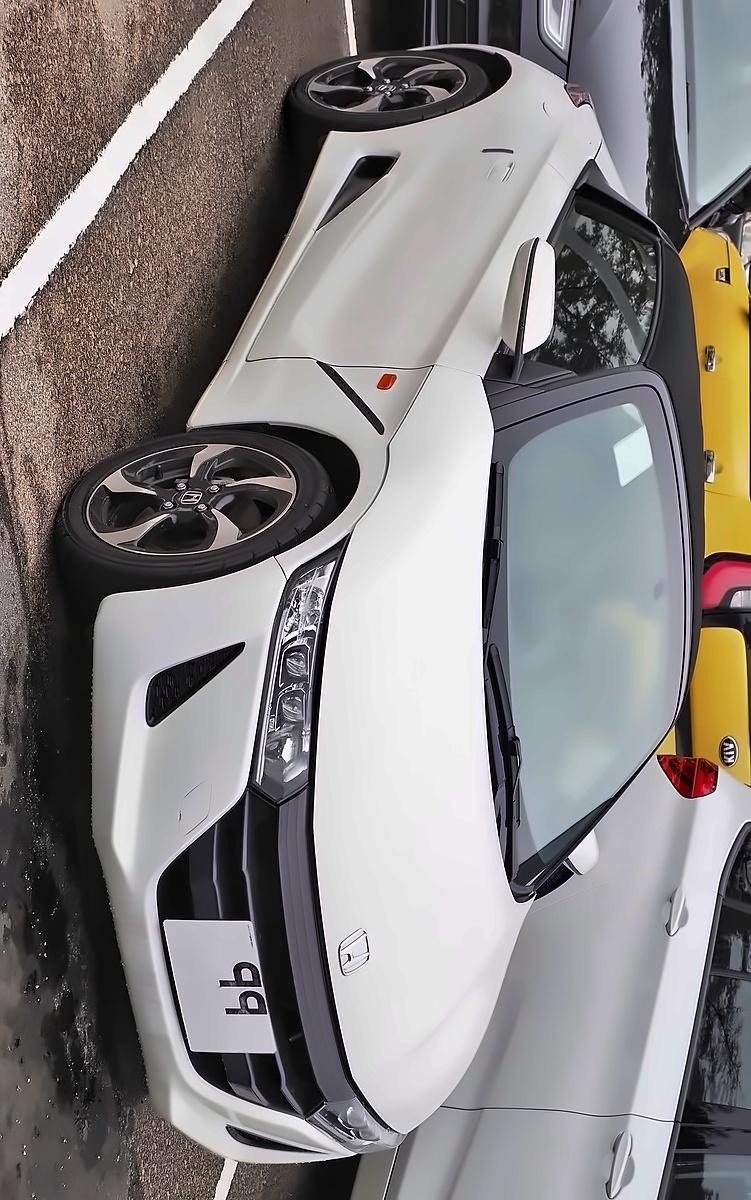Car hood: (305, 370, 533, 1139)
Driver-s door - -F-R-: (238, 138, 672, 362)
Fender - -F-R-: (183, 360, 504, 578)
Fender - -R-R-: (335, 64, 592, 138)
Front bumper: (60, 575, 333, 1183)
Headlight - -L-: (285, 1068, 417, 1171)
Headlight - -R-: (245, 523, 356, 812)
Rear light - -R-: (548, 60, 620, 114)
Side bumper - -R-: (175, 113, 367, 457)
Side mirror - -L-: (553, 810, 615, 898)
Side mirror - -R-: (488, 223, 570, 373)
